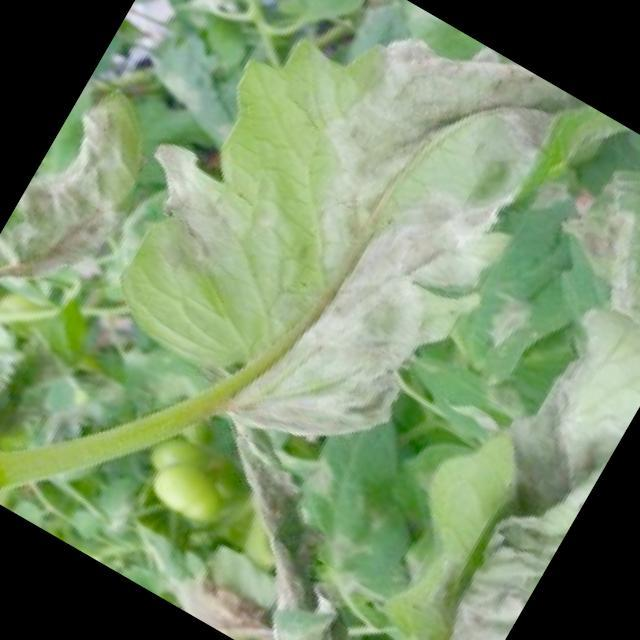Tomato late blight leaf: (60, 0, 594, 498)
